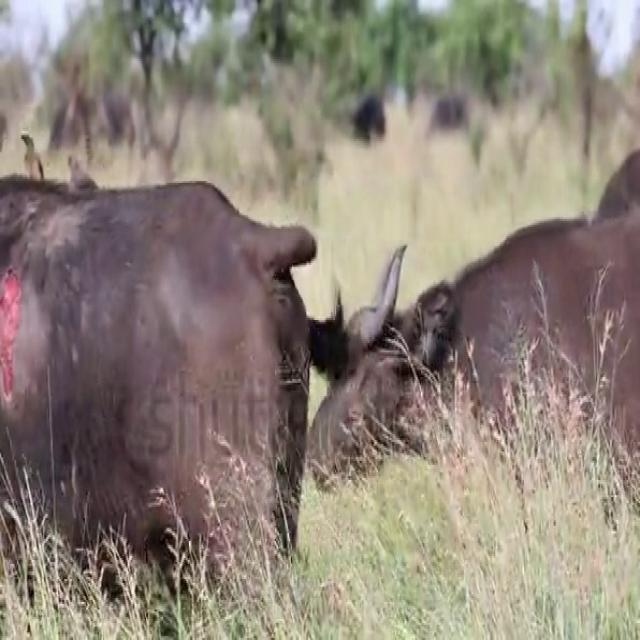injured-animals: (2, 133, 310, 640)
normal_animals: (323, 100, 640, 602)
